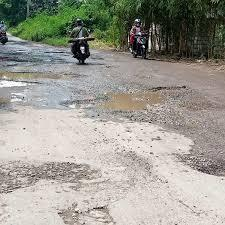Pothole: (0, 151, 113, 195), (58, 92, 193, 124), (30, 190, 146, 225), (0, 59, 86, 93), (0, 44, 70, 69), (182, 146, 225, 179)
